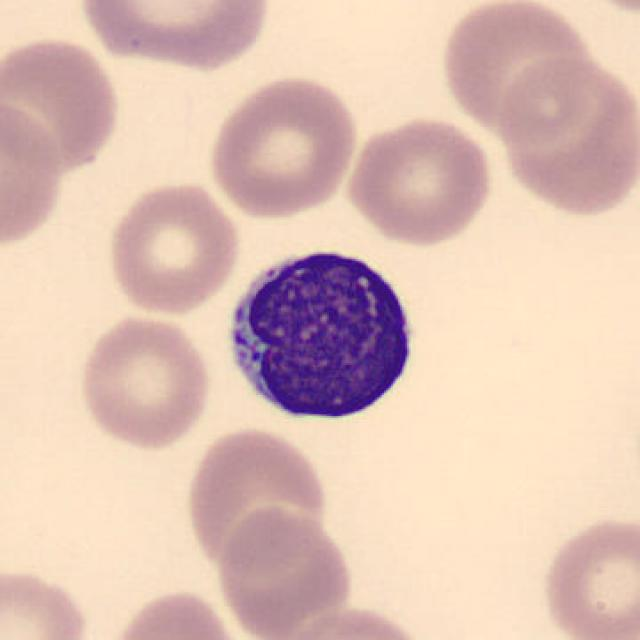Lymphocyte: (215, 233, 427, 432)
RBC: (494, 53, 638, 220), (204, 72, 361, 222), (182, 423, 332, 573), (437, 0, 595, 139), (343, 111, 496, 249), (75, 310, 215, 453), (103, 178, 244, 319), (212, 501, 358, 636), (0, 32, 126, 173), (72, 0, 275, 72), (535, 509, 638, 640), (0, 94, 66, 255), (494, 53, 601, 148), (101, 585, 249, 640), (0, 562, 94, 640), (261, 603, 434, 640), (563, 0, 640, 17)
